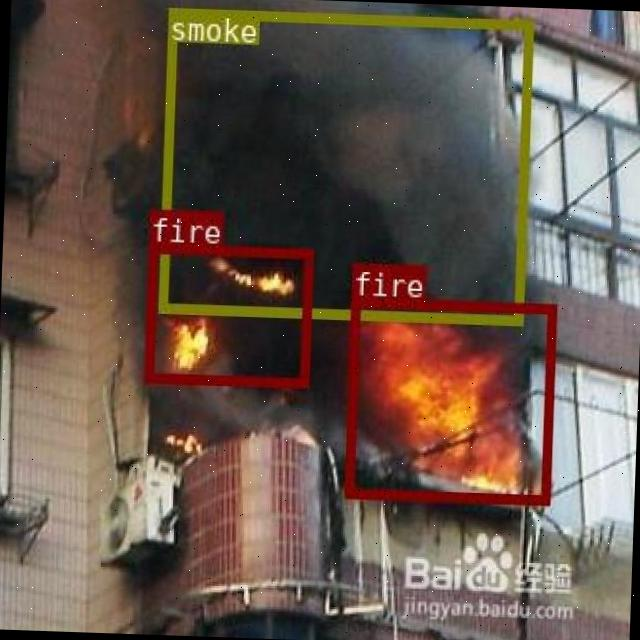fire: (343, 296, 555, 503), (142, 242, 312, 386)
smoke: (158, 5, 532, 324)
